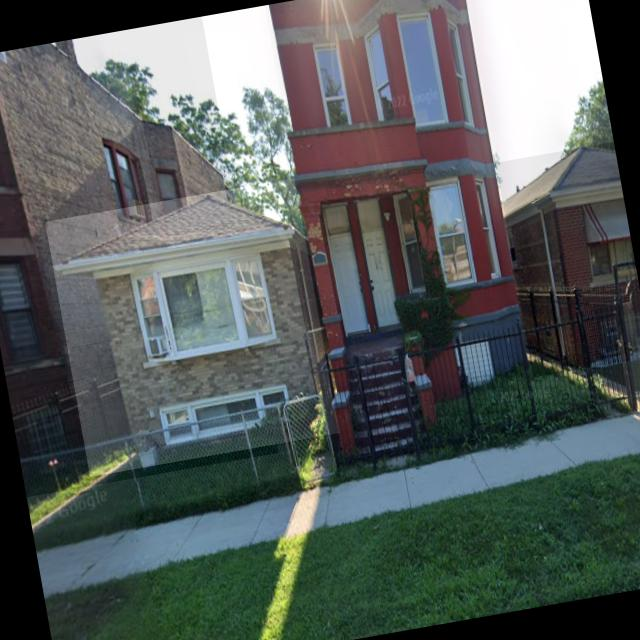House: (0, 16, 278, 496), (264, 0, 539, 463), (44, 178, 338, 477), (495, 141, 640, 377)
